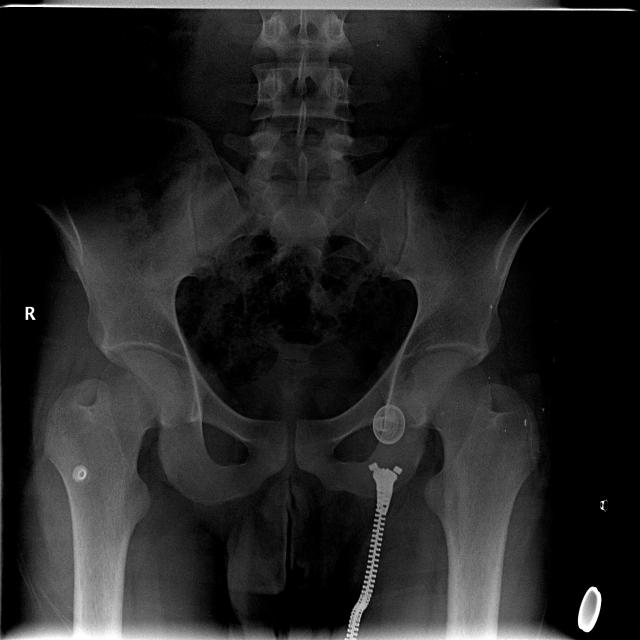normal-left: (405, 350, 541, 639)
normal-right: (46, 350, 188, 640)
